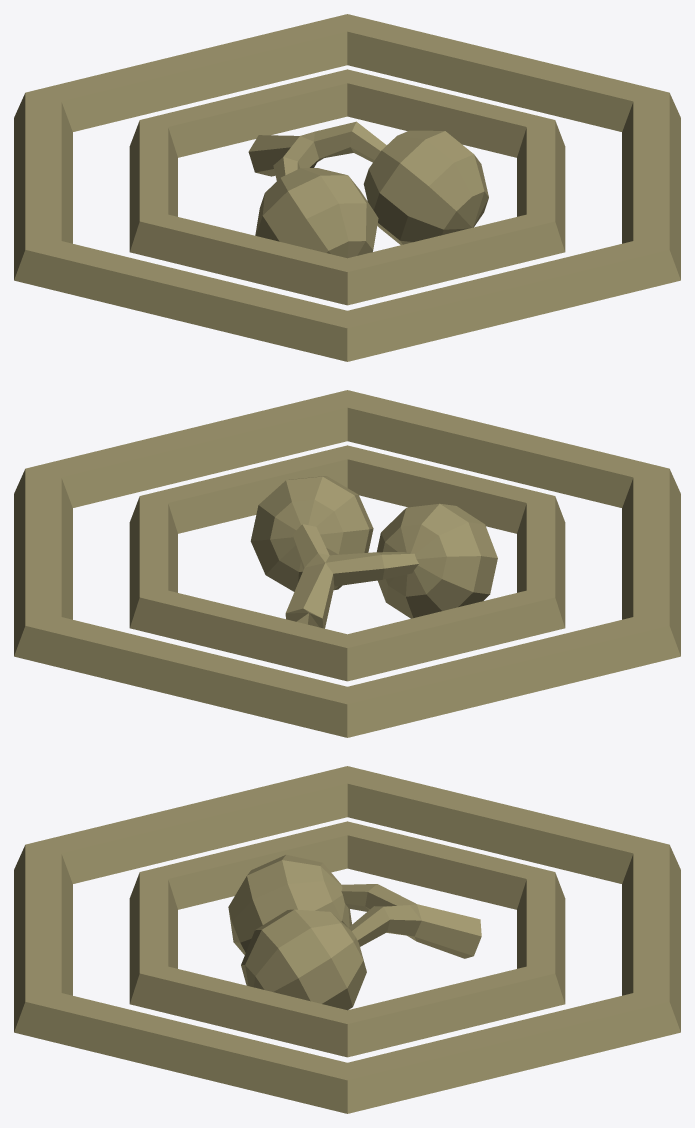
The model's file is Marker_Bonus_Bonus.FBX.
The picture shows the model from 3 angles, top to bottom: view 1: azimuth 30°, elevation 25°; view 2: azimuth 150°, elevation 25°; view 3: azimuth 270°, elevation 25°; orthographic projection.
Visible parts, largest first — view 1: 3DIcon_Bonus_Marker; view 2: 3DIcon_Bonus_Marker; view 3: 3DIcon_Bonus_Marker.
Part boxes in pixels (left/top/right/bottom): 3DIcon_Bonus_Marker: left=14, top=14, right=680, bottom=361; 3DIcon_Bonus_Marker: left=14, top=390, right=680, bottom=737; 3DIcon_Bonus_Marker: left=14, top=766, right=680, bottom=1113.
Bounding box in the file's own units: 1.53 × 0.259 × 1.33.
